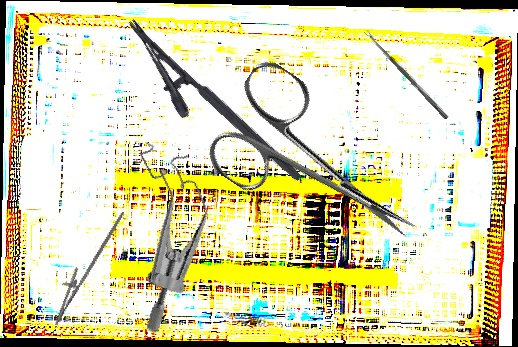Iris Scissors: (194, 54, 447, 281)
Needle Holder: (105, 16, 304, 206), (45, 201, 125, 332)
Speculum: (79, 127, 248, 337)
Surgical Spoon: (364, 29, 449, 120)
